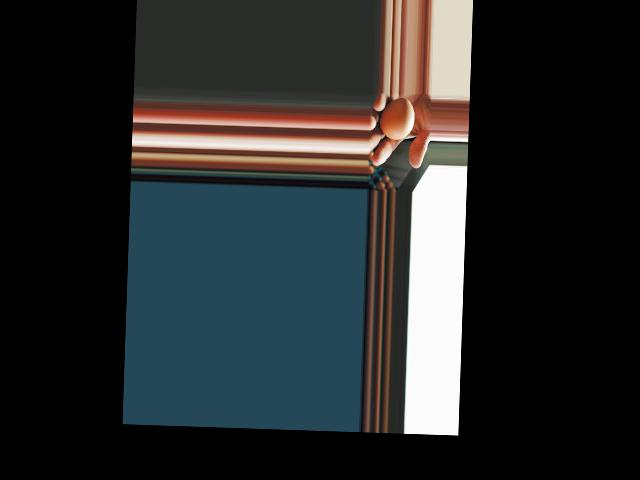egg: (378, 96, 414, 140)
